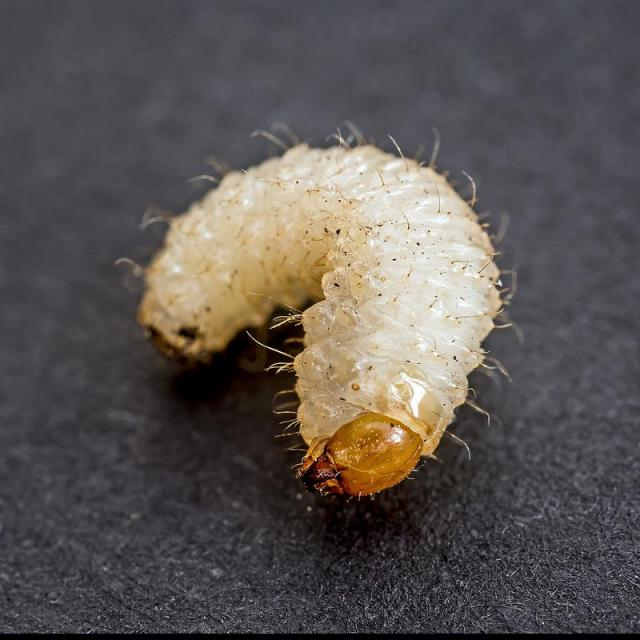Grub-Adult-: (77, 113, 537, 515)
